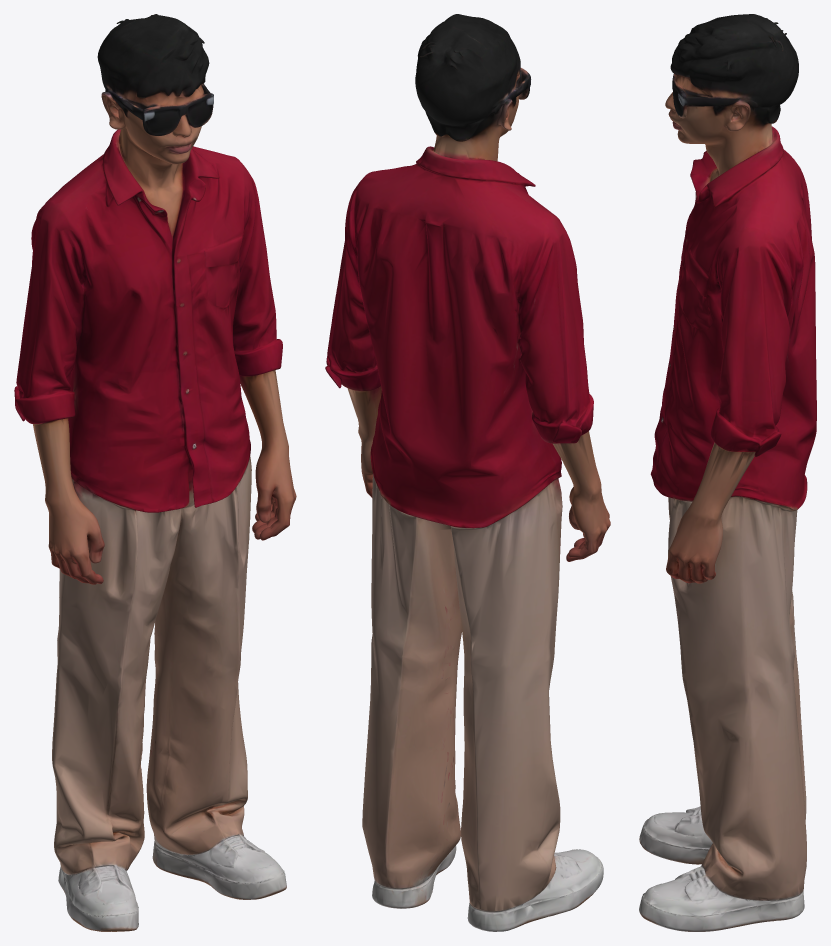
Rendered from sameer-m.glb.
The picture shows the model from 3 angles, left to right: view 1: azimuth 30°, elevation 25°; view 2: azimuth 150°, elevation 25°; view 3: azimuth 270°, elevation 25°; orthographic projection.
Visible parts, largest first — view 1: material; view 2: material; view 3: material.
Part boxes in pixels (bbox=[...]): material: bbox=[14, 14, 296, 931]; material: bbox=[325, 14, 610, 931]; material: bbox=[639, 14, 816, 931].
Size of the model in its own units: 0.3651 by 1.16 by 0.2157.
1 material, 1 textured.
